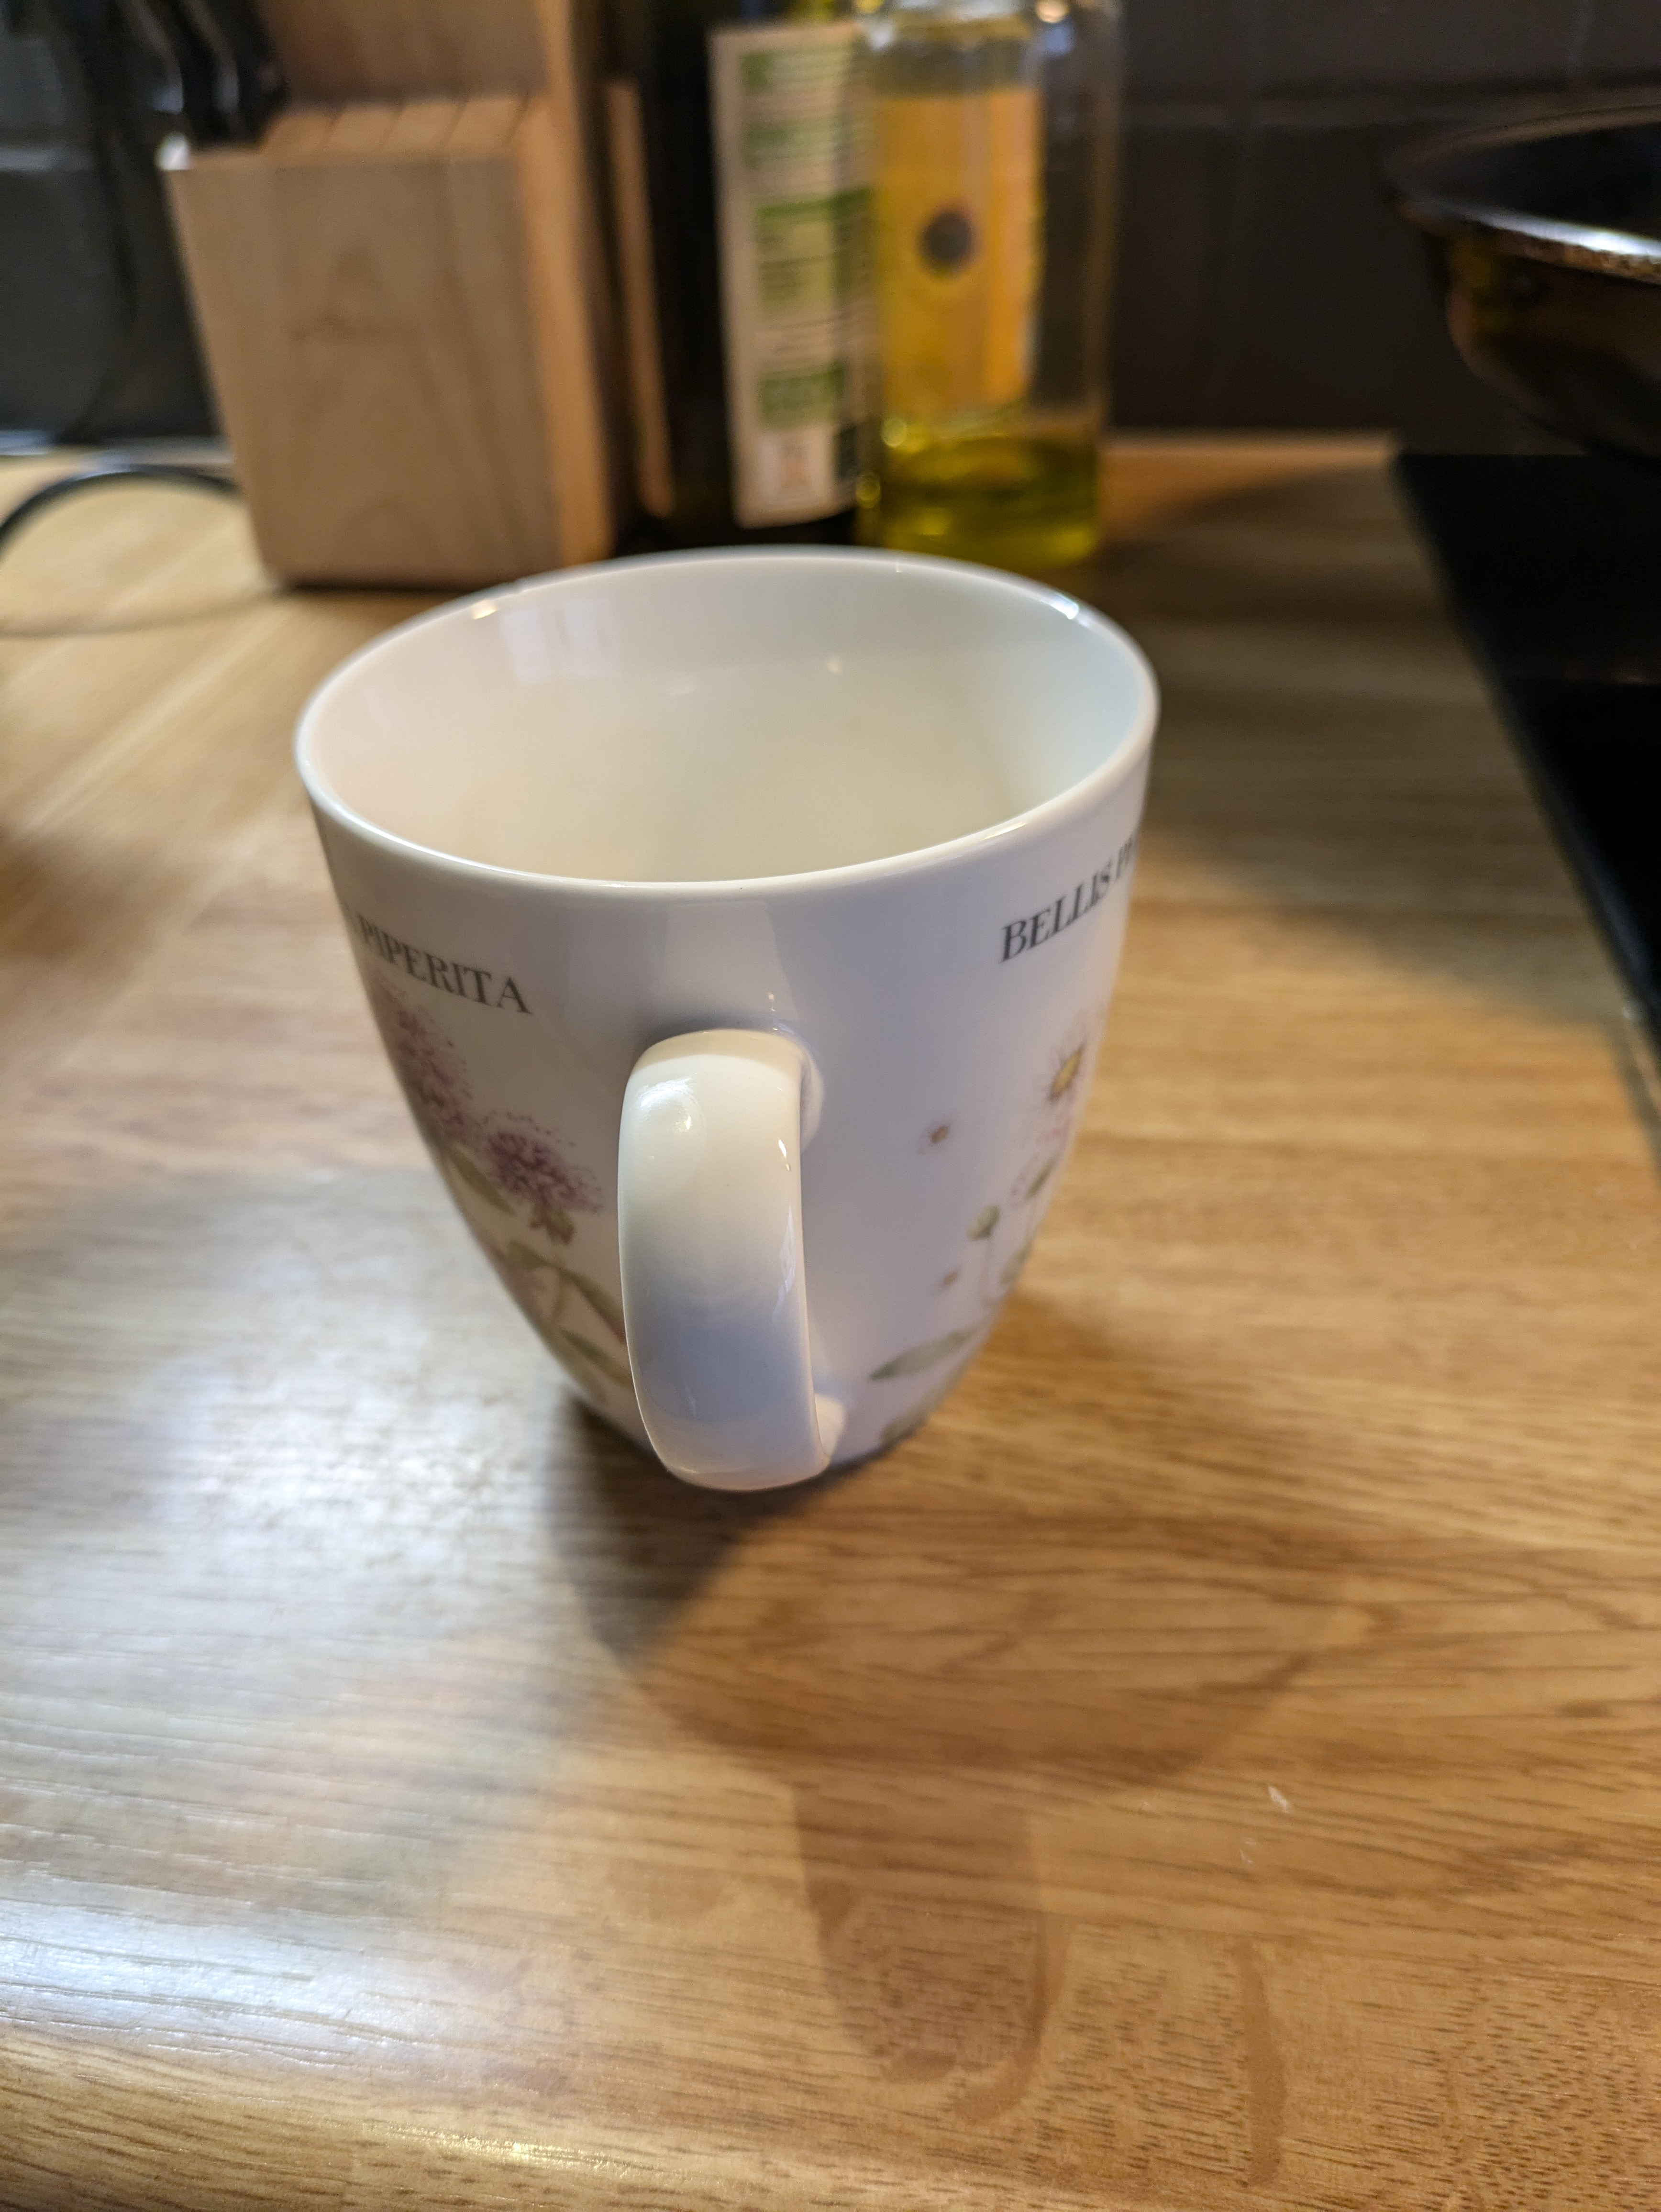mok: (211, 480, 1232, 1544)
